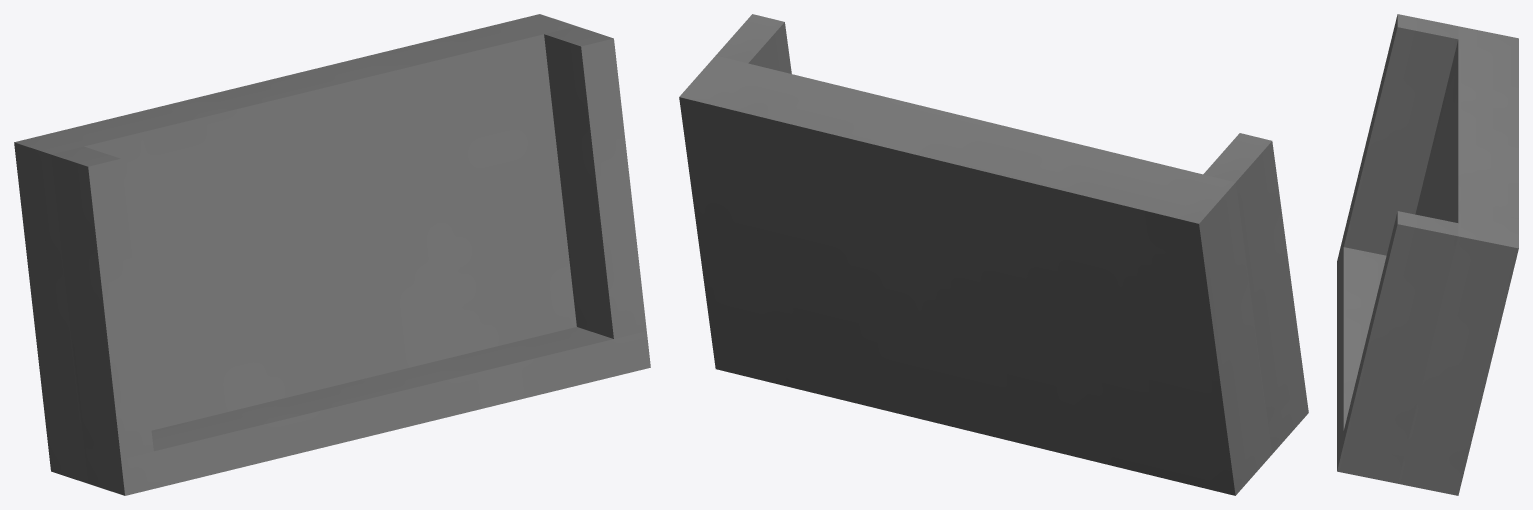
File: dc_metro_arch_c2.obj
3 renders of one model, left to right at view 1: azimuth 30°, elevation 25°; view 2: azimuth 150°, elevation 25°; view 3: azimuth 270°, elevation 25°, orthographic. The views are drawn at different scales.
Visible parts, largest first — view 1: part2; view 2: part2; view 3: part2.
Part boxes in pixels (box(x1,y1,x2,y2)): part2: box(14, 14, 650, 495); part2: box(679, 14, 1308, 495); part2: box(1337, 14, 1518, 495).
Bounding box in the file's own units: 2 × 1.21 × 0.7316.
Materials: 1 (1 with a texture image).
